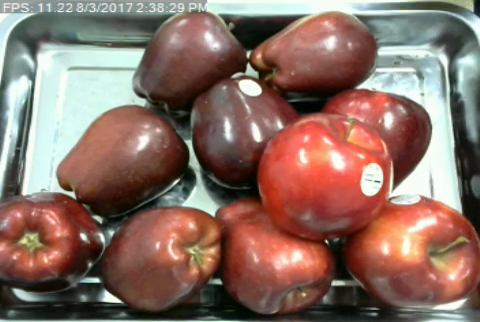Apple: (254, 110, 395, 242), (341, 191, 480, 313), (55, 101, 191, 220), (215, 193, 336, 319), (95, 202, 223, 316), (189, 73, 303, 193), (131, 8, 249, 114), (320, 86, 434, 191), (0, 187, 108, 295), (250, 8, 379, 98)
